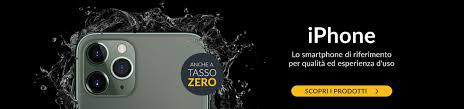Smartphone: (79, 27, 218, 109)
